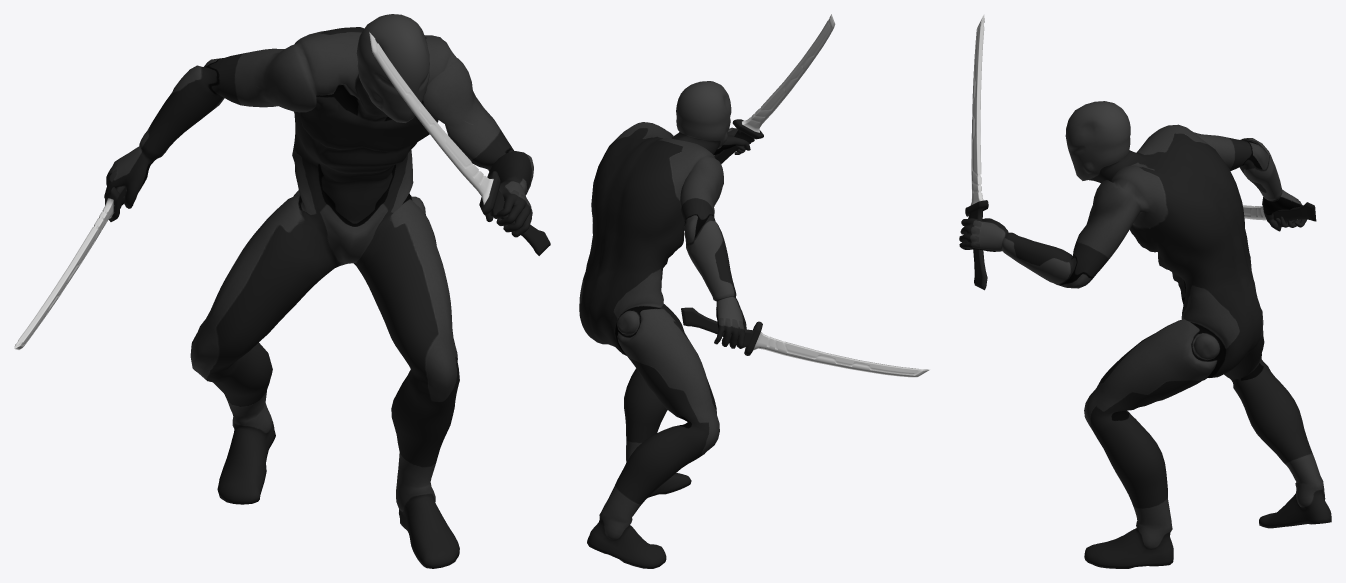
3 views of the same model, side by side, from view 1: azimuth 30°, elevation 25°; view 2: azimuth 150°, elevation 25°; view 3: azimuth 270°, elevation 25° (orthographic). The views are drawn at different scales.
Parts seen in each view (by area): view 1: Cyborg_Ninja_Killer, Sword_l, Sword_l001; view 2: Cyborg_Ninja_Killer, Sword_l001, Sword_l; view 3: Cyborg_Ninja_Killer, Sword_l, Sword_l001.
Boxes of the visible parts, x1=… form: Cyborg_Ninja_Killer: x1=104, y1=14, x2=533, y2=568; Sword_l: x1=369, y1=31, x2=550, y2=255; Sword_l001: x1=14, y1=186, x2=126, y2=349; Cyborg_Ninja_Killer: x1=579, y1=81, x2=750, y2=568; Sword_l001: x1=681, y1=307, x2=929, y2=377; Sword_l: x1=714, y1=14, x2=835, y2=164; Cyborg_Ninja_Killer: x1=959, y1=101, x2=1331, y2=568; Sword_l: x1=965, y1=14, x2=988, y2=290; Sword_l001: x1=1243, y1=197, x2=1316, y2=231.
Bounding box in the file's own units: 134 × 172 × 118.
2 materials, 2 textured.
